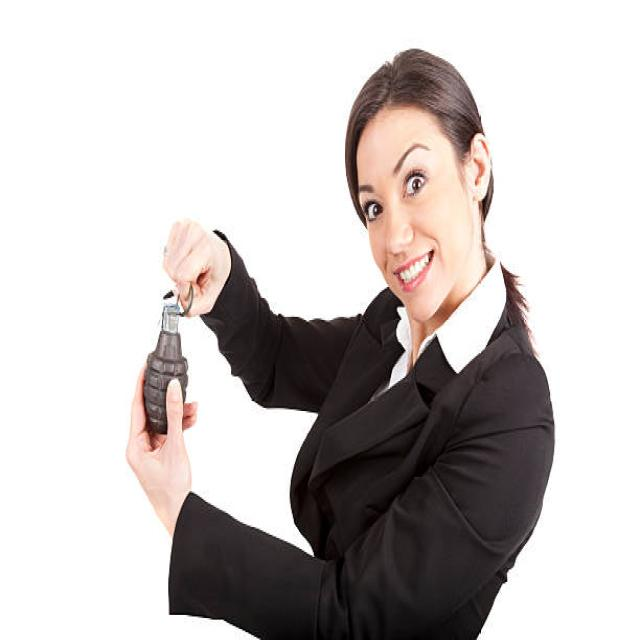grenade: (143, 285, 198, 436)
